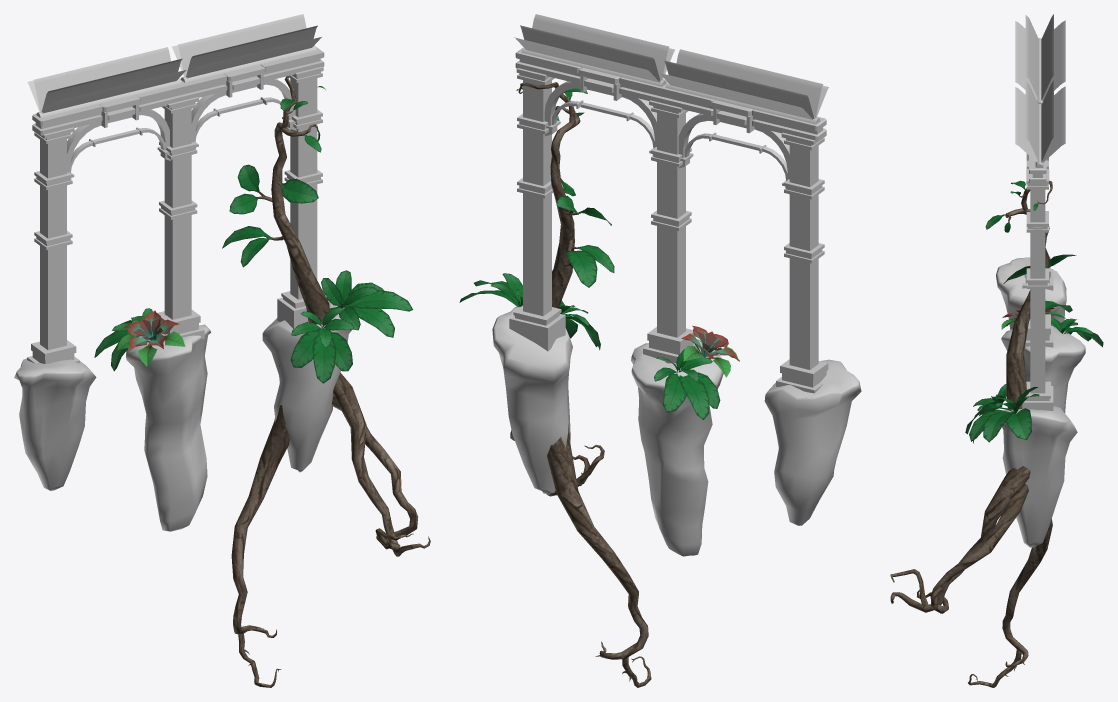
The model's file is spikesLineArch.obj.
3 views of the same model, side by side, from view 1: azimuth 30°, elevation 25°; view 2: azimuth 150°, elevation 25°; view 3: azimuth 270°, elevation 25° (orthographic). The views are drawn at different scales.
Visible parts, largest first — view 1: spikesLineArch PlatfprmsAndSpikes; view 2: spikesLineArch PlatfprmsAndSpikes; view 3: spikesLineArch PlatfprmsAndSpikes.
Boxes of the visible parts, <box> form: spikesLineArch PlatfprmsAndSpikes: <box>14,14,430,687</box>; spikesLineArch PlatfprmsAndSpikes: <box>459,14,861,687</box>; spikesLineArch PlatfprmsAndSpikes: <box>890,14,1103,687</box>.
Size of the model in its own units: 25.49 by 40.44 by 13.32.
